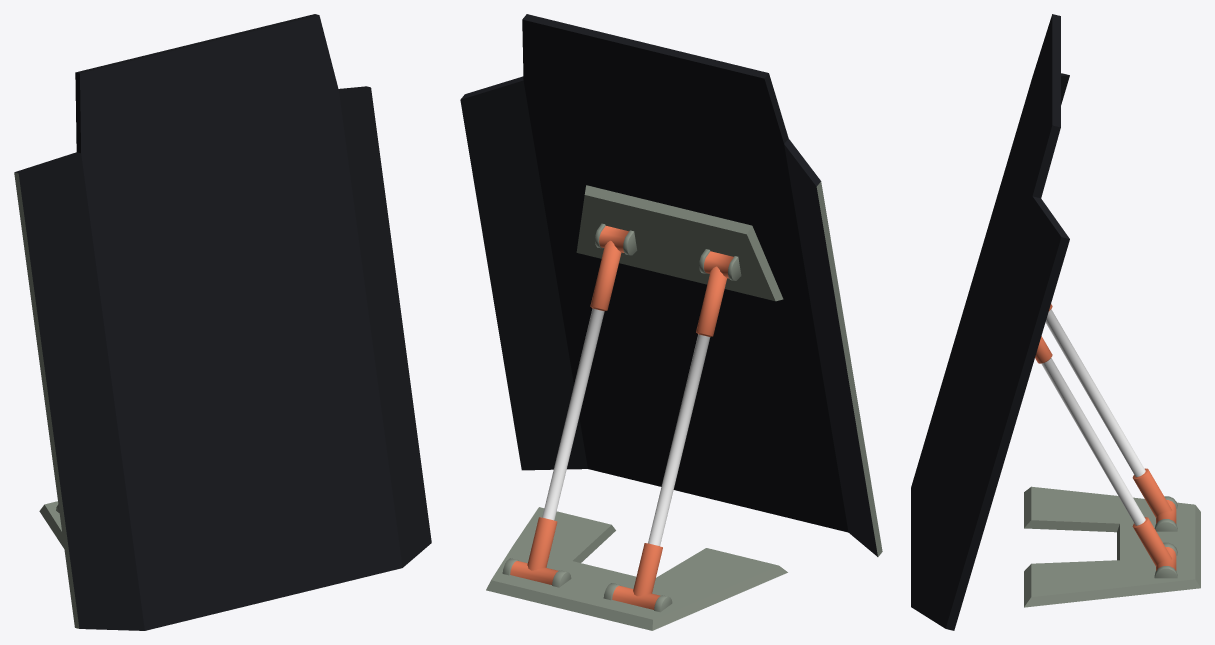
The model's file is regular_wall_2.fbx.
The picture shows the model from 3 angles, left to right: view 1: azimuth 30°, elevation 25°; view 2: azimuth 150°, elevation 25°; view 3: azimuth 270°, elevation 25°; orthographic projection. The views are drawn at different scales.
Parts seen in each view (by area): view 1: Regular_wall_2; view 2: Regular_wall_2; view 3: Regular_wall_2.
Boxes of the visible parts, left/top/right/bottom form: Regular_wall_2: left=14, top=14, right=431, bottom=630; Regular_wall_2: left=460, top=14, right=882, bottom=630; Regular_wall_2: left=911, top=14, right=1200, bottom=630.
Size of the model in its own units: 911 by 1244 by 680.
